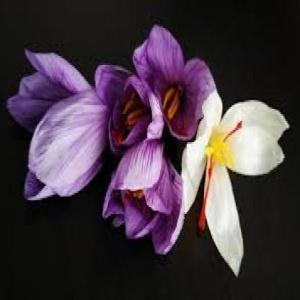Saffron: (178, 91, 290, 261), (6, 45, 112, 213), (102, 140, 192, 256), (134, 26, 221, 138), (92, 51, 162, 146)
